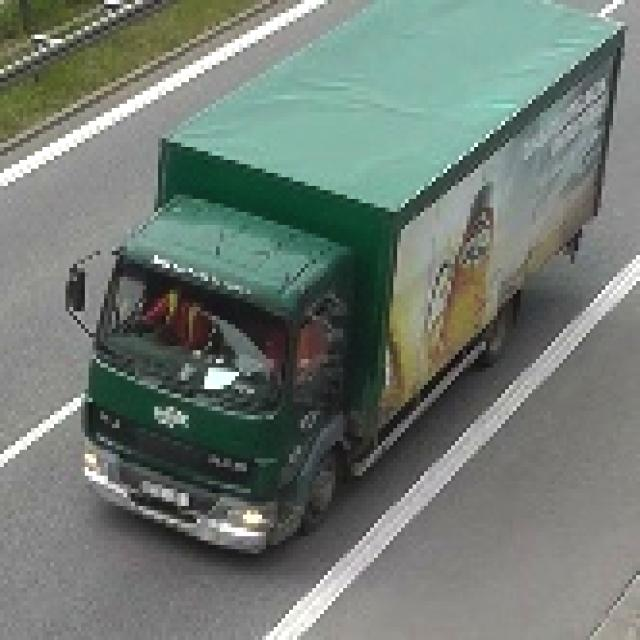truck: (67, 1, 622, 555)
